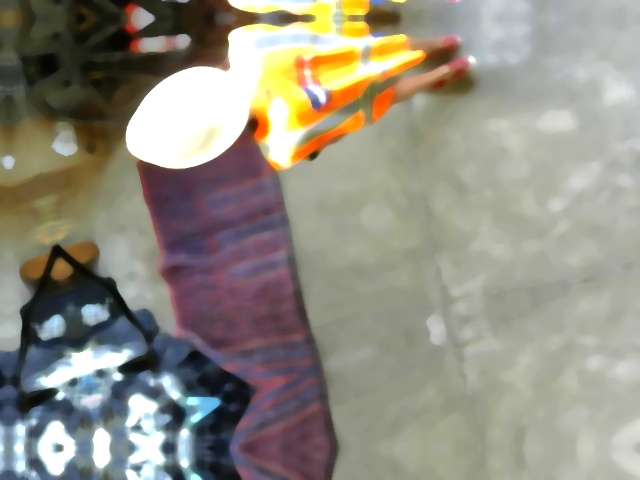eight: (162, 78, 217, 129)
